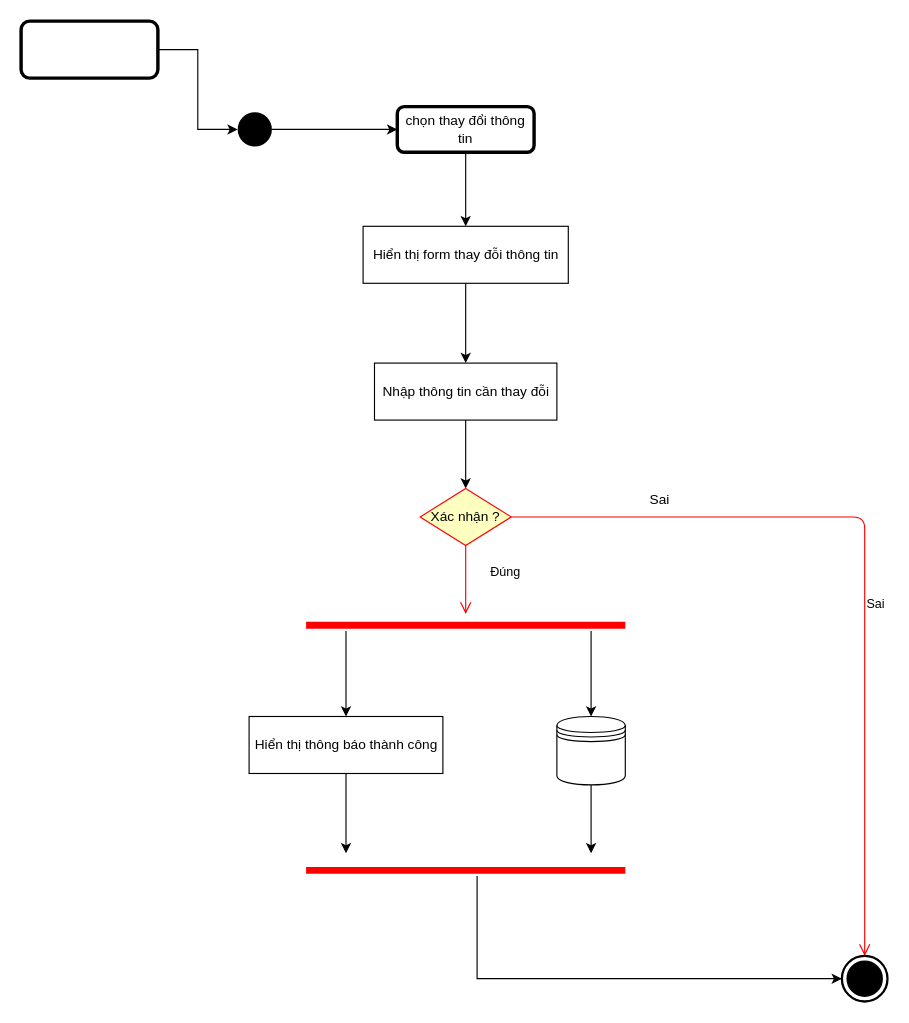
Image size: 909x1023. Some labels were removed from this diagram. The centre of each missing label's shape, as x and y in pixels:
"Lưu vào CSDL" goes at (x=590, y=750).
"Đăng nhập" goes at (x=89, y=49).
